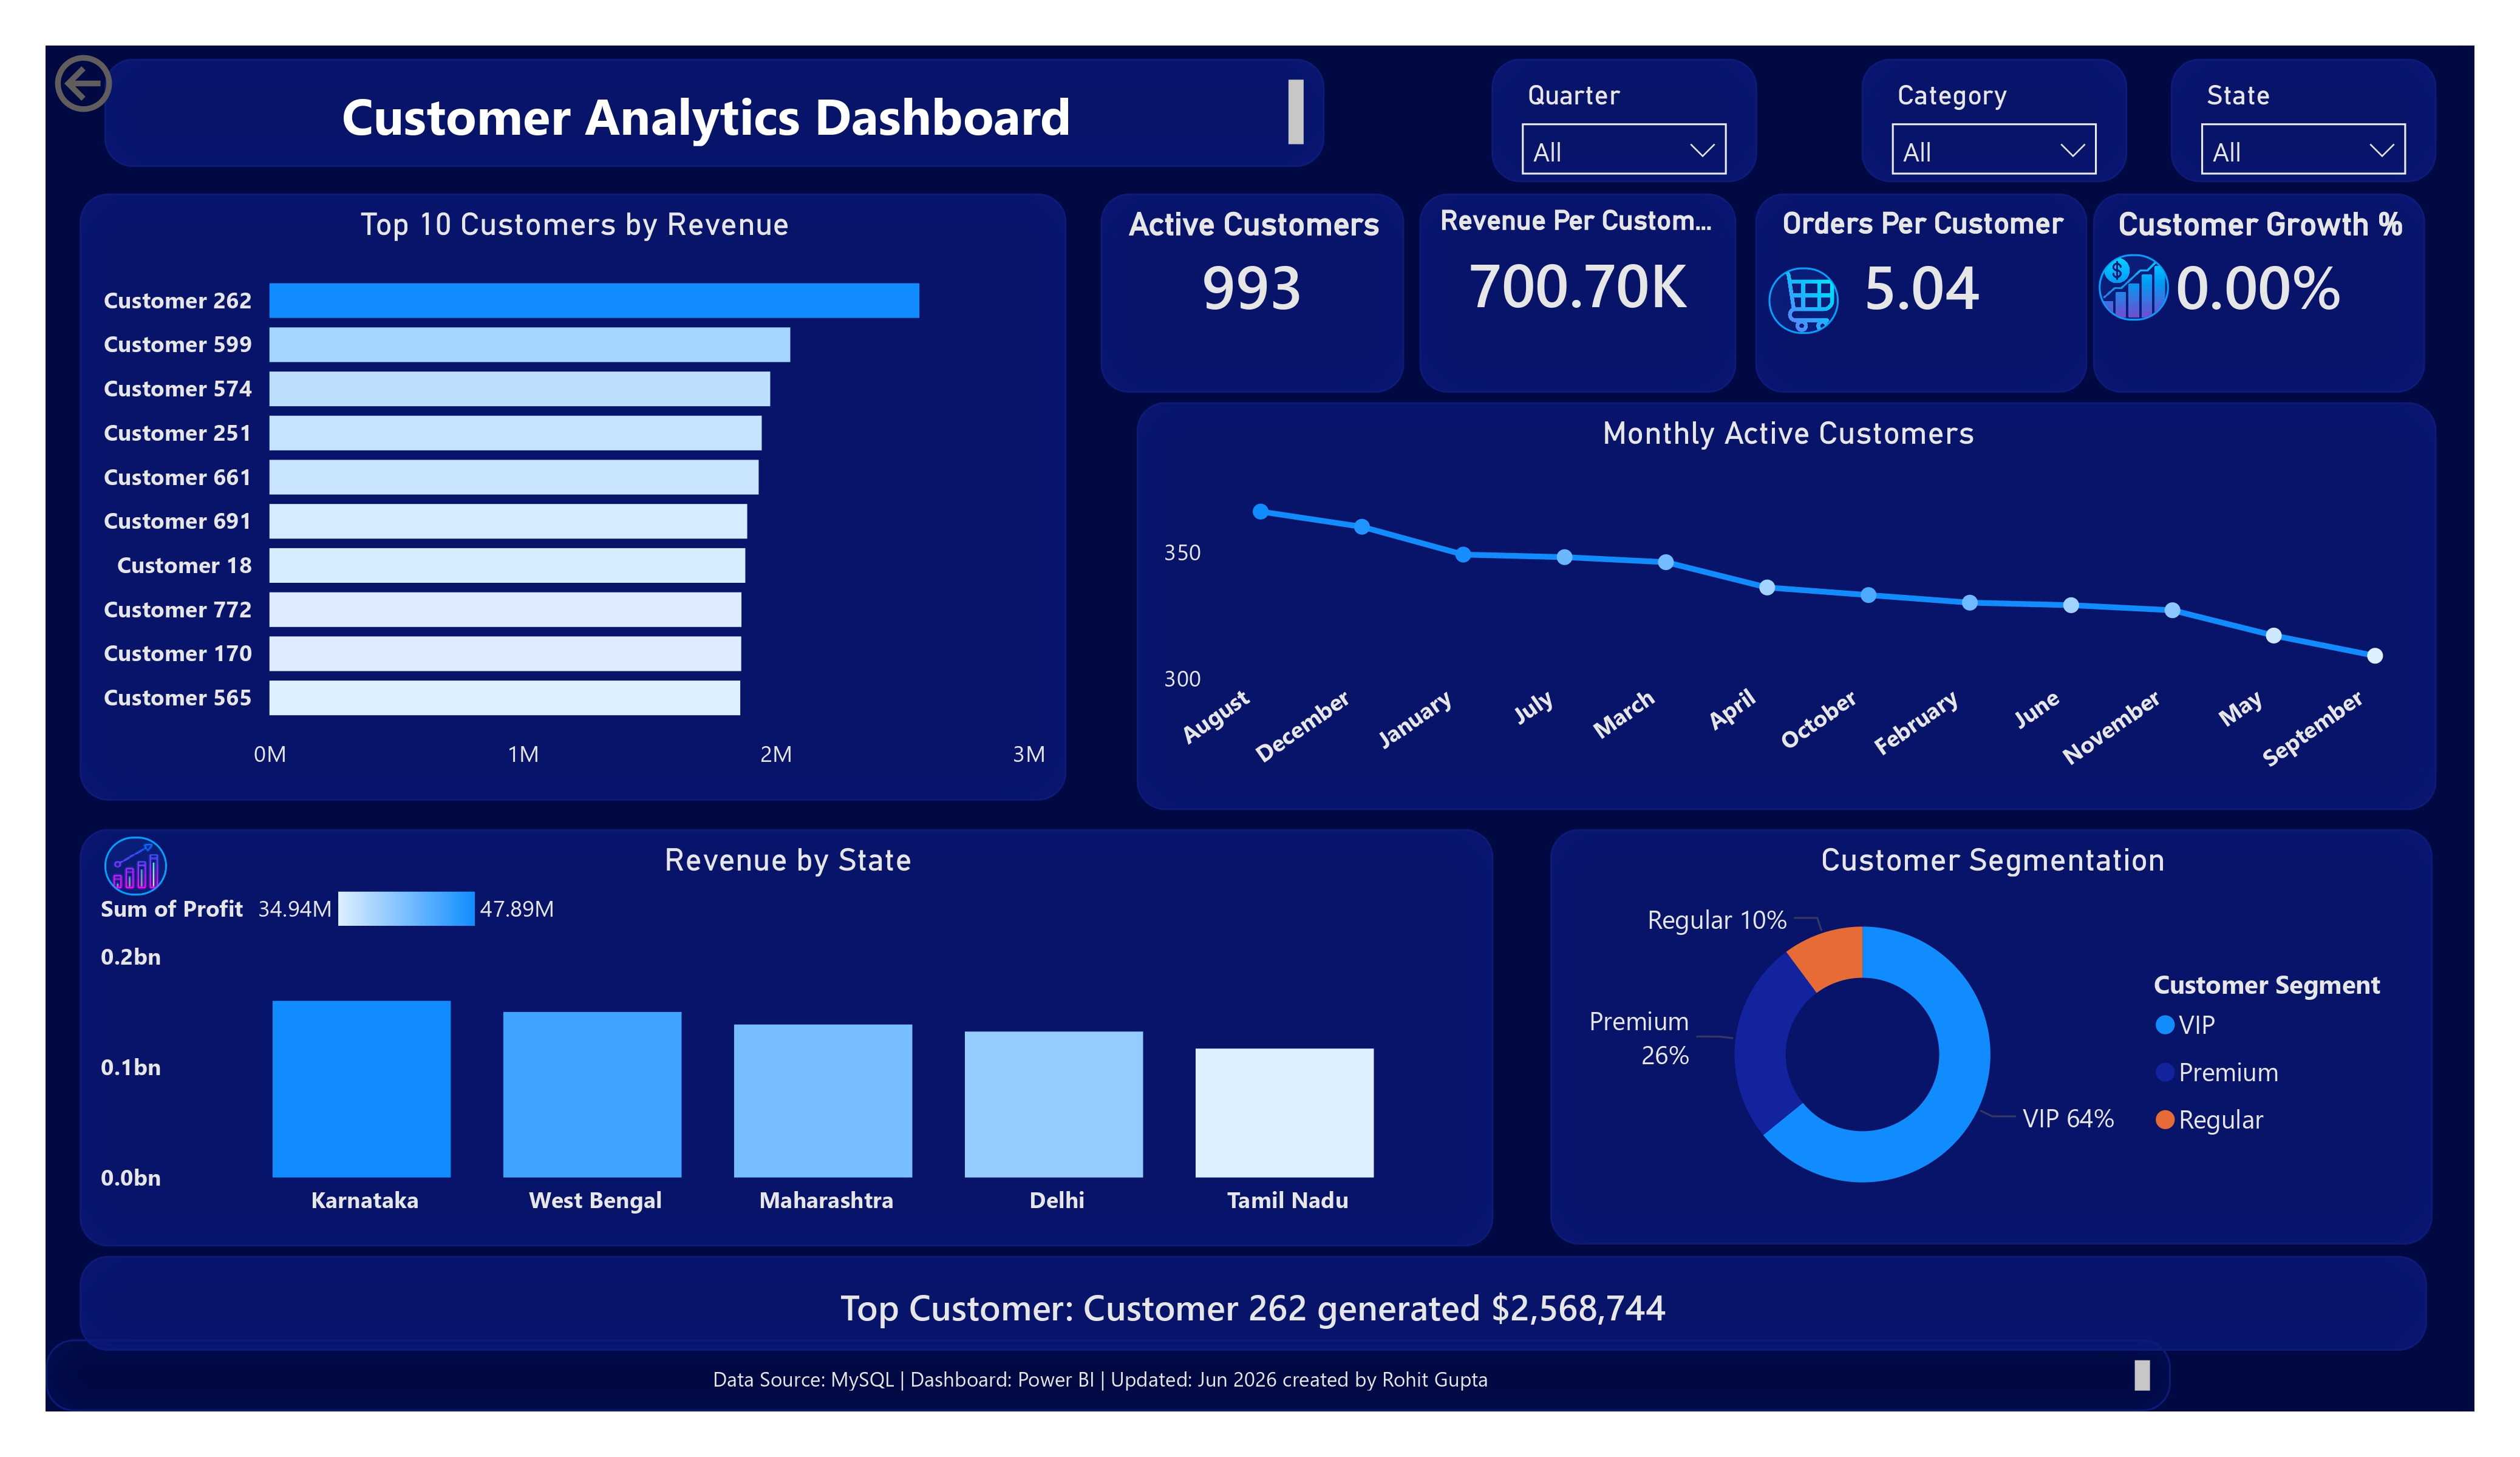

Layout of this report page (visuals, bound fields, positions):
{"tool":"powerbi","page":{"name":"Customer-analysis","canvas":[1280,720],"ordinal":1},"visuals":[{"type":"columnChart","title":"Revenue by State","fields":{"Category":["Customers.State"],"Y":["All Measures.Revenue"]},"box":[17.5,412.5,745,220],"z":1000},{"type":"lineChart","title":"Monthly Active Customers","fields":{"Category":["DateTable.Month"],"Y":["Active Customers.Active Customers"]},"box":[575,188.3,685,215],"z":2000},{"type":"donutChart","title":"Customer Segmentation","fields":{"Y":["Active Customers.Active Customers"],"Category":["Customers.Customer Segment"]},"box":[793.3,413.3,465,218.3],"z":3000},{"type":"clusteredBarChart","title":"Top 10 Customers by Revenue","fields":{"Category":["Customers.CustomerName"],"Y":["All Measures.Revenue"]},"box":[18.3,78.3,520,320],"z":4000},{"type":"slicer","fields":{"Values":["Products.Category"]},"box":[956.7,6.7,140,65],"z":5000},{"type":"slicer","fields":{"Values":["Customers.State"]},"box":[1120,6.7,140,65],"z":6000},{"type":"textbox","box":[31.4,7.1,642.9,57.1],"z":7000},{"type":"slicer","fields":{"Values":["DateTable.Quarter"]},"box":[761.7,6.7,140,65],"z":8000},{"type":"cardVisual","title":"Orders Per Customer","fields":{"Data":["Active Customers.Orders Per Customer"]},"box":[900.7,78.3,175,105],"z":8000,"group":"g1"},{"type":"cardVisual","title":"Customer Growth %","fields":{"Data":["Customers Measures.Customer Growth %"]},"box":[1079,78.3,175,105],"z":8000,"group":"g4"},{"type":"cardVisual","title":"Active Customers","fields":{"Data":["Active Customers.Active Customers"]},"box":[555.7,78.3,160,105],"z":9000,"group":"g2"},{"type":"cardVisual","title":"Revenue Per Customer","fields":{"Data":["Active Customers.Revenue Per Customer"]},"box":[724,78.3,166.7,105],"z":9000,"group":"g3"},{"type":"cardVisual","fields":{"Data":["Customers Measures.Customer Insight"]},"box":[17.5,637.5,1237.5,50],"z":9000},{"type":"image","box":[31,417,33,31],"z":14000},{"type":"actionButton","box":[0,0,100,40],"z":15000},{"type":"textbox","box":[0,681.7,1120,38.3],"z":17000},{"type":"group","id":"g1","title":"Group 2","box":[900.7,78.3,175,105],"z":18000},{"type":"group","id":"g2","title":"Group 3","box":[555.7,78.3,160,105],"z":19000},{"type":"group","id":"g3","title":"Group 3","box":[724,78.3,166.7,105],"z":20000},{"type":"group","id":"g4","title":"Group 2","box":[1079,78.3,175,105],"z":21000},{"type":"image","box":[1082.3,110,36.7,35],"z":23000,"group":"g4"},{"type":"image","box":[907.9,116.9,36.5,34.9],"z":23000,"group":"g1"}]}

Visuals, with their boxes on the page's 1280x720 design canvas (x1, y1, x2, y2). These are canvas units, not pixel positions in the 2520x1457 screenshot, which may show the page scaled, cropped or inside an application window:
"Revenue by State" columnChart: (x1=18, y1=412, x2=762, y2=632)
"Monthly Active Customers" lineChart: (x1=575, y1=188, x2=1260, y2=403)
"Customer Segmentation" donutChart: (x1=793, y1=413, x2=1258, y2=632)
"Top 10 Customers by Revenue" clusteredBarChart: (x1=18, y1=78, x2=538, y2=398)
slicer - Products.Category: (x1=957, y1=7, x2=1097, y2=72)
slicer - Customers.State: (x1=1120, y1=7, x2=1260, y2=72)
textbox: (x1=31, y1=7, x2=674, y2=64)
slicer - DateTable.Quarter: (x1=762, y1=7, x2=902, y2=72)
"Orders Per Customer" cardVisual: (x1=901, y1=78, x2=1076, y2=183)
"Customer Growth %" cardVisual: (x1=1079, y1=78, x2=1254, y2=183)
"Active Customers" cardVisual: (x1=556, y1=78, x2=716, y2=183)
"Revenue Per Customer" cardVisual: (x1=724, y1=78, x2=891, y2=183)
cardVisual - Customers Measures.Customer Insight: (x1=18, y1=638, x2=1255, y2=688)
image: (x1=31, y1=417, x2=64, y2=448)
actionButton: (x1=0, y1=0, x2=100, y2=40)
textbox: (x1=0, y1=682, x2=1120, y2=720)
"Group 2" group: (x1=901, y1=78, x2=1076, y2=183)
"Group 3" group: (x1=556, y1=78, x2=716, y2=183)
"Group 3" group: (x1=724, y1=78, x2=891, y2=183)
"Group 2" group: (x1=1079, y1=78, x2=1254, y2=183)
image: (x1=1082, y1=110, x2=1119, y2=145)
image: (x1=908, y1=117, x2=944, y2=152)
